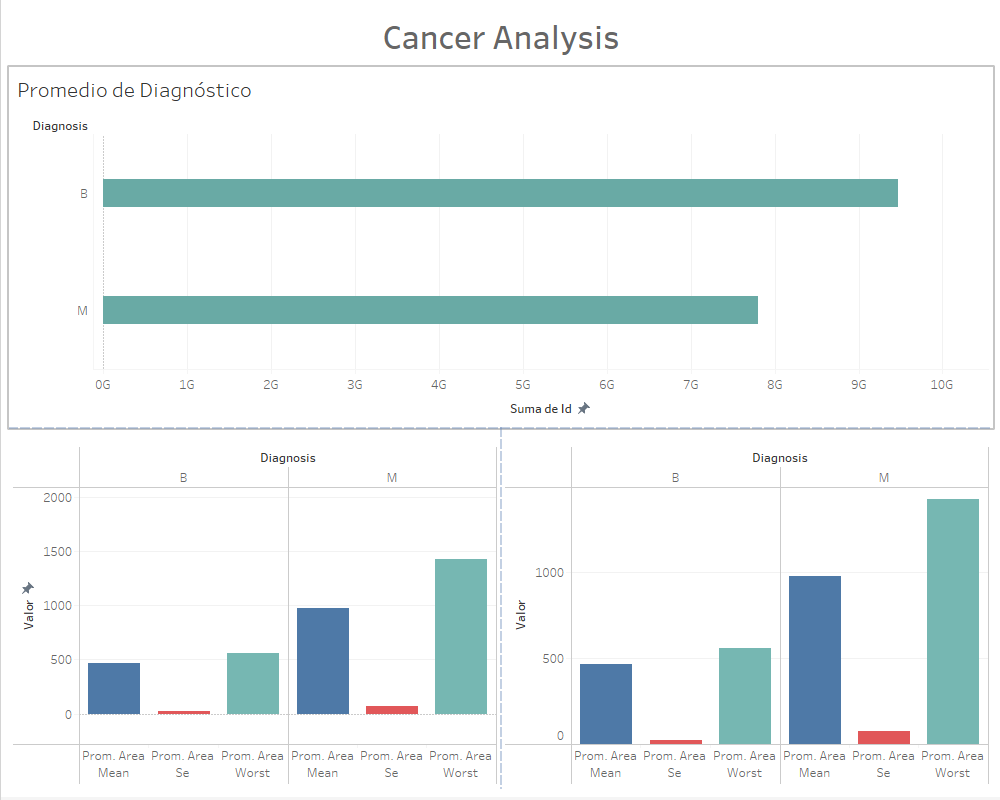

Layout of this report page (visuals, bound fields, positions):
{"tool":"tableau","page":{"name":"Dashboard","canvas":[1000,800],"ordinal":0},"visuals":[{"type":"text","box":[8,8,984,62]},{"type":"worksheet","title":"Diagnosis","mark":"Automatic","rows":["diagnosis"],"cols":["id"],"box":[8,70,984,361]},{"type":"worksheet","title":"Perimetro_diag","mark":"Automatic","cols":["diagnosis"],"box":[8,431,492,361]},{"type":"worksheet","title":"Area_diag","mark":"Automatic","cols":["diagnosis"],"box":[500,431,492,361]}]}

Visuals, with their boxes in screenshot pixels (x1, y1, x2, y2), scaled from the page's 1000x800 canvas onto the 1000x800 screenshot:
text: crop(8, 8, 992, 70)
"Diagnosis" worksheet: crop(8, 70, 992, 431)
"Perimetro_diag" worksheet: crop(8, 431, 500, 792)
"Area_diag" worksheet: crop(500, 431, 992, 792)
